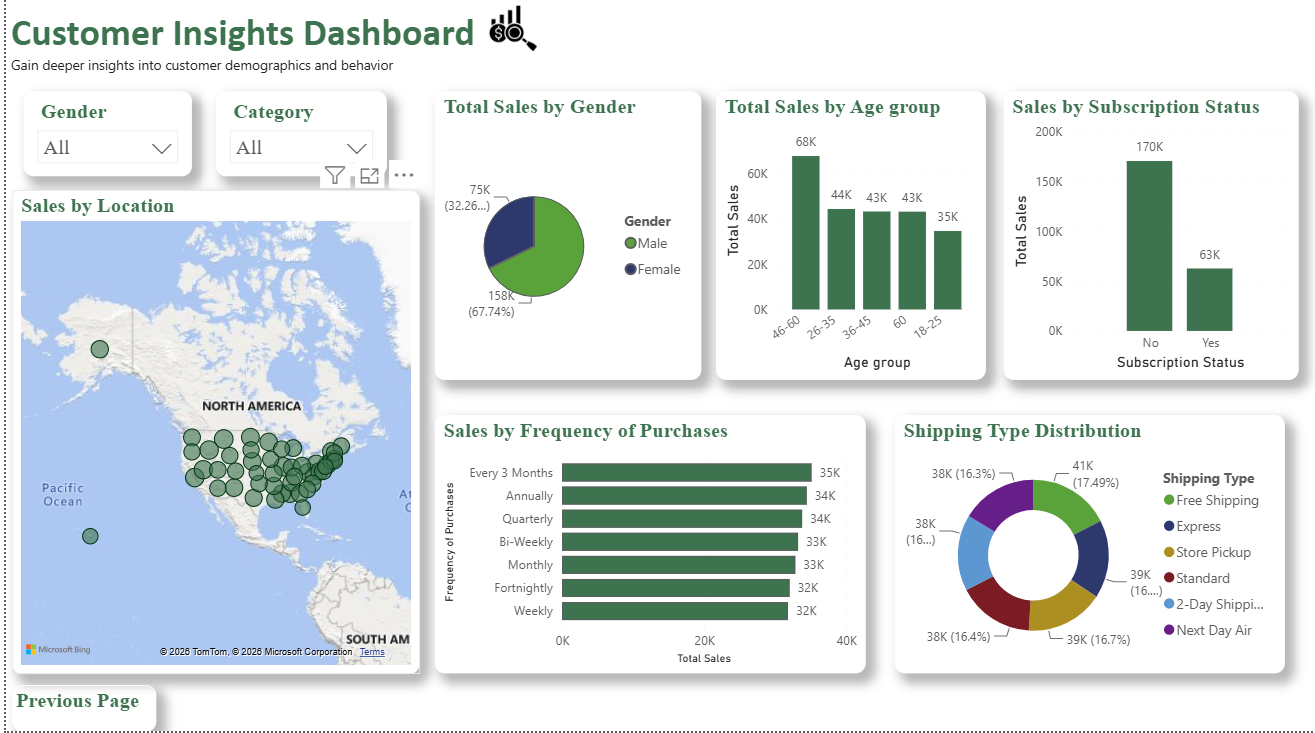

Layout of this report page (visuals, bound fields, positions):
{"tool":"powerbi","page":{"name":"Customer insights","canvas":[1280,720],"ordinal":1},"visuals":[{"type":"textbox","box":[0,8.6,1280.3,74.6],"z":0},{"type":"slicer","fields":{"Values":["customer_shopping_behavior (1).Gender"]},"box":[17.1,94.2,165.1,83.2],"z":1000},{"type":"slicer","fields":{"Values":["customer_shopping_behavior (1).Category"]},"box":[205.4,94.2,167.5,83.2],"z":2000},{"type":"map","title":"Sales by Location","fields":{"Category":["customer_shopping_behavior (1).Location"],"Size":["customer_shopping_behavior (1).Total Sales"]},"box":[6.1,190.8,398.6,473.2],"z":3000},{"type":"pieChart","fields":{"Category":["customer_shopping_behavior (1).Gender"],"Y":["customer_shopping_behavior (1).Total Sales"]},"box":[419.4,94.2,260.5,282.5],"z":4000},{"type":"clusteredColumnChart","fields":{"Category":["customer_shopping_behavior (1).Age group"],"Y":["customer_shopping_behavior (1).Total Sales"]},"box":[694.6,94.2,264.1,282.5],"z":5000},{"type":"clusteredBarChart","title":" Sales by Frequency of Purchases","fields":{"Category":["customer_shopping_behavior (1).Frequency of Purchases"],"Y":["customer_shopping_behavior (1).Total Sales"]},"box":[419.4,410.9,421.9,253.1],"z":6000},{"type":"clusteredColumnChart","title":" Sales by Subscription Status","fields":{"Category":["customer_shopping_behavior (1).Subscription Status"],"Y":["customer_shopping_behavior (1).Total Sales"]},"box":[975.8,94.2,288.6,282.5],"z":7000},{"type":"image","box":[470.8,0,51.4,66],"z":8000},{"type":"actionButton","title":"Previous Page","box":[6.1,675,140.6,45.2],"z":9000},{"type":"donutChart","title":"Shipping Type Distribution","fields":{"Category":["customer_shopping_behavior (1).Shipping Type"],"Y":["customer_shopping_behavior (1).Total Sales"]},"box":[869.4,410.9,381.5,253.1],"z":10000}]}

Visuals, with their boxes in screenshot pixels (x1, y1, x2, y2), scaled from the page's 1280x720 canvas onto the 1315x733 screenshot:
textbox: rect(0, 9, 1314, 85)
slicer - customer_shopping_behavior (1).Gender: rect(18, 96, 187, 181)
slicer - customer_shopping_behavior (1).Category: rect(211, 96, 383, 181)
"Sales by Location" map: rect(6, 194, 416, 676)
pieChart - customer_shopping_behavior (1).Gender x customer_shopping_behavior (1).Total Sales: rect(431, 96, 698, 384)
clusteredColumnChart - customer_shopping_behavior (1).Age group x customer_shopping_behavior (1).Total Sales: rect(714, 96, 985, 384)
" Sales by Frequency of Purchases" clusteredBarChart: rect(431, 418, 864, 676)
" Sales by Subscription Status" clusteredColumnChart: rect(1002, 96, 1299, 384)
image: rect(484, 0, 536, 67)
"Previous Page" actionButton: rect(6, 687, 151, 732)
"Shipping Type Distribution" donutChart: rect(893, 418, 1285, 676)
